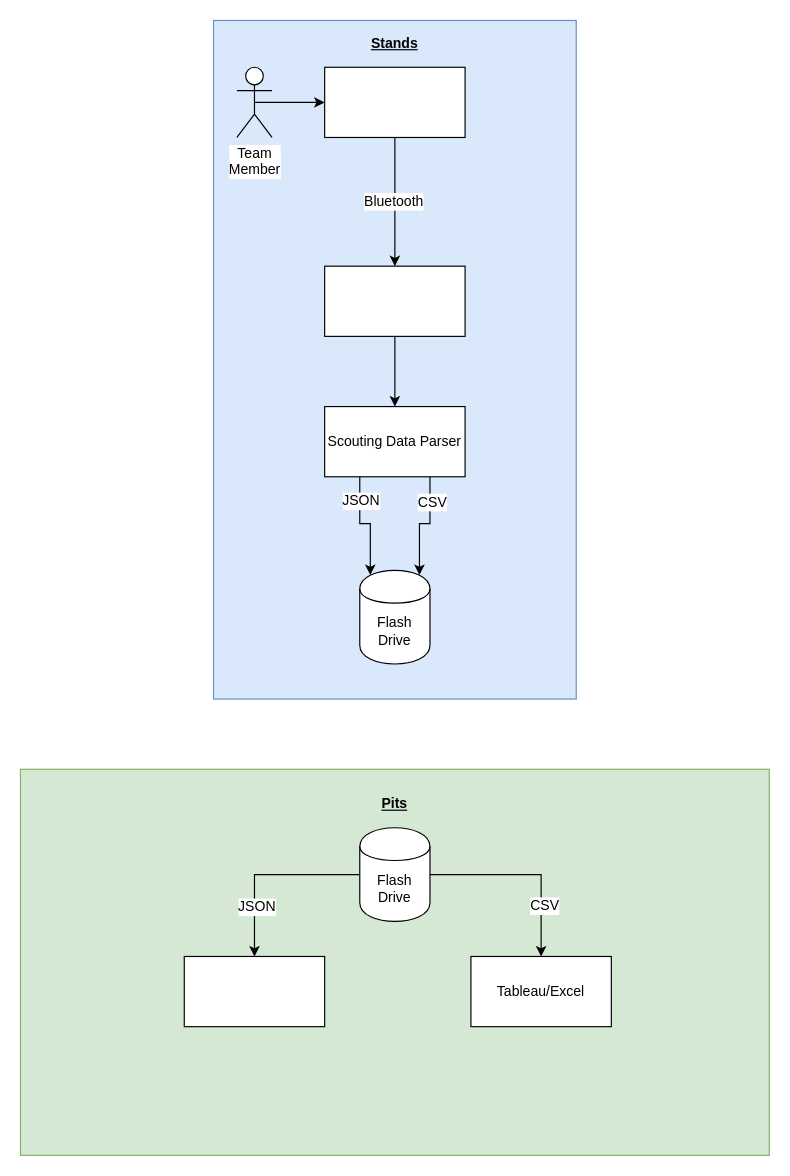
Some shapes in this 790 by 1176 pixel diagram are drawn without their labels. Each missing label, with the centre of its shape:
Scouting Dashboard: the point at 254,991
Scouting Mobile Application: the point at 394,101
Server: the point at 394,300
